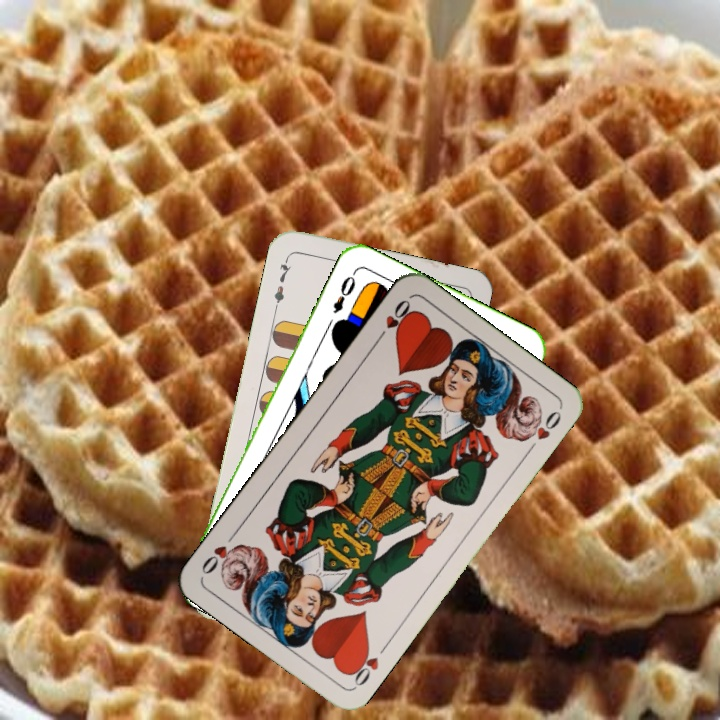E7: (269, 253, 294, 312)
EO: (328, 267, 359, 317)
HO: (344, 639, 391, 690), (372, 295, 416, 345)
